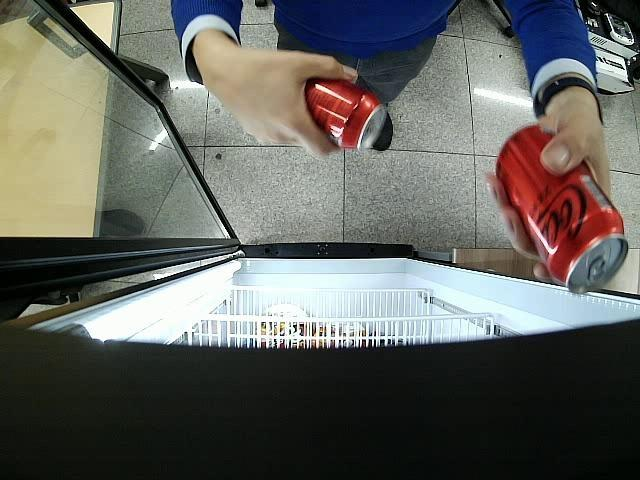11_cocaColaZero: (496, 125, 627, 294), (306, 79, 391, 150)
